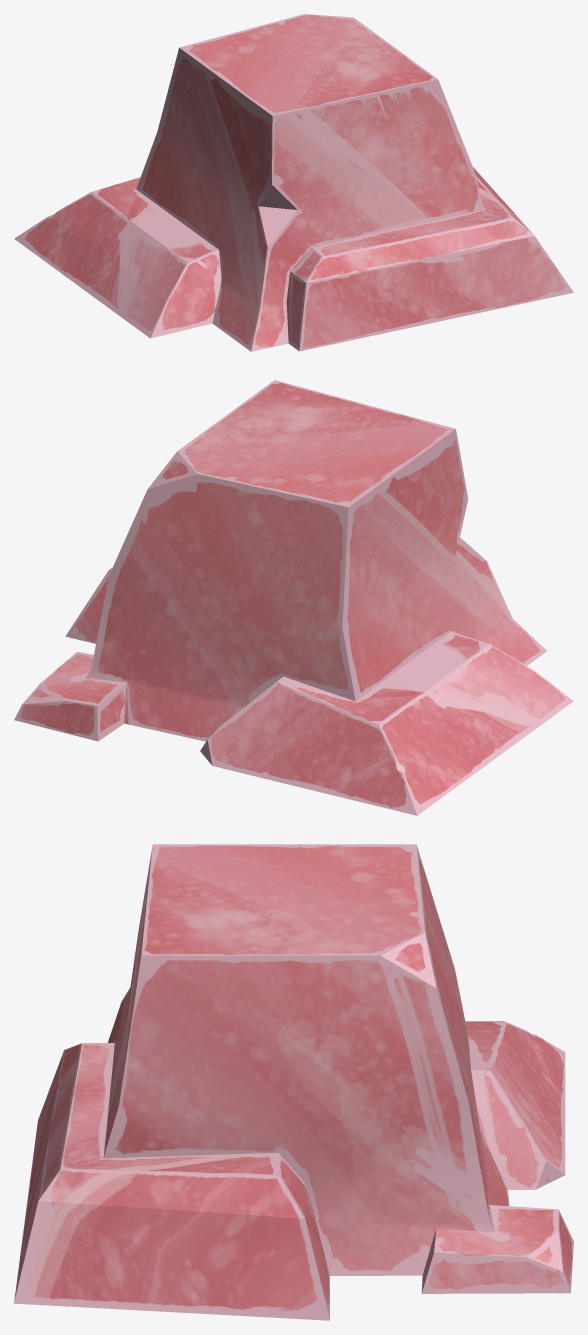
Rendered from saltRockRemesh.fbx.
3 views of the same model, one above another, from view 1: azimuth 30°, elevation 25°; view 2: azimuth 150°, elevation 25°; view 3: azimuth 270°, elevation 25° (orthographic). The views are drawn at different scales.
Parts seen in each view (by area): view 1: SaltRockRemseshed; view 2: SaltRockRemseshed; view 3: SaltRockRemseshed.
Part boxes in pixels (x1,y1,x2,y2): SaltRockRemseshed: (14, 14, 573, 351); SaltRockRemseshed: (14, 380, 573, 815); SaltRockRemseshed: (14, 844, 573, 1320).
Bounding box in the file's own units: 397 × 198 × 350.
